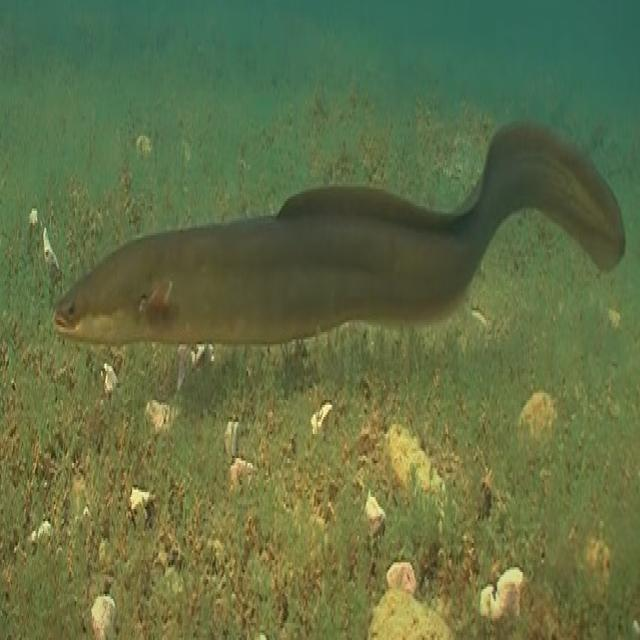Freshwater-Eel: (24, 110, 640, 438)
